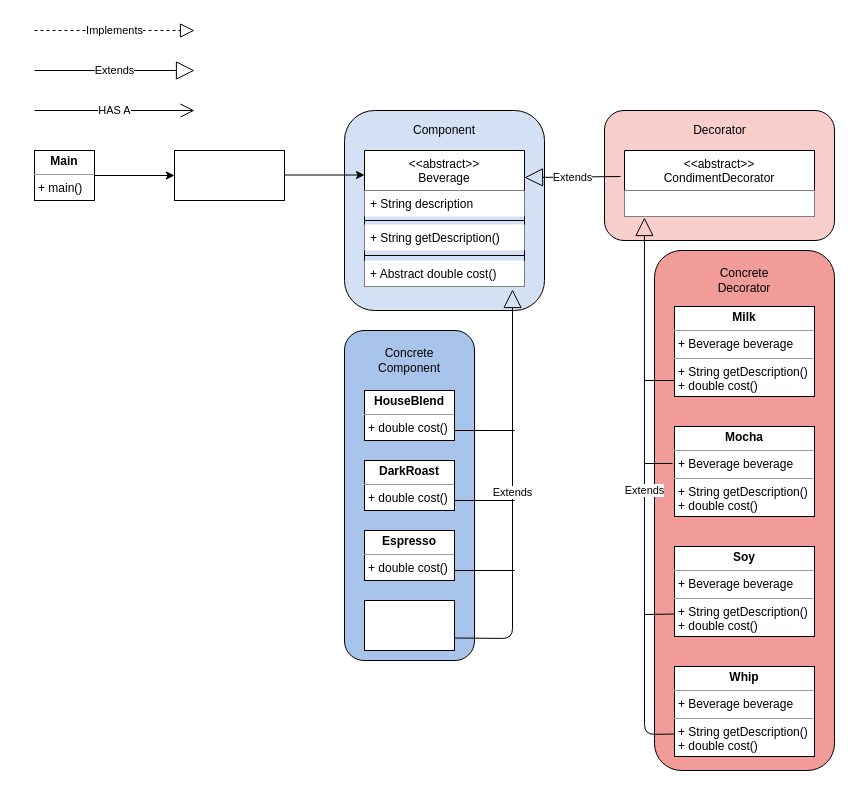
This 852x788 diagram has some shape labels left out. Each missing label, with the centre of its shape:
+ Abstract String getDescription(): (x=719, y=203)
Decaf + double cost(): (x=409, y=625)
StarBuzzCoffee + run(): (x=229, y=175)
